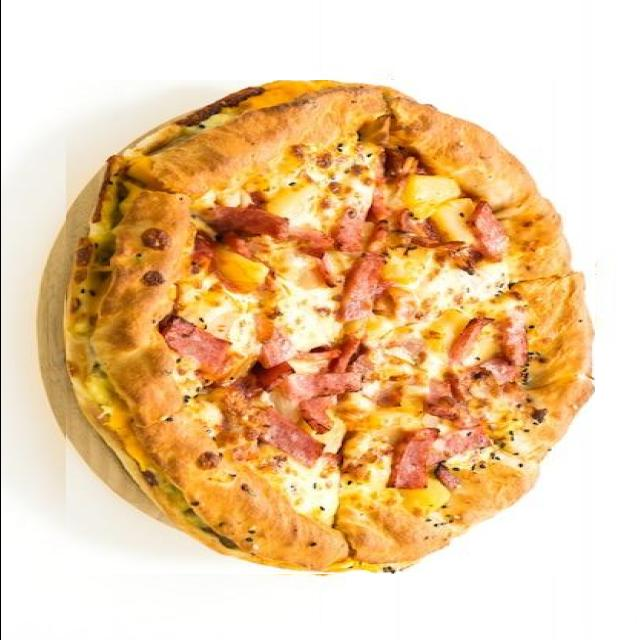pizza: (65, 80, 594, 574)
